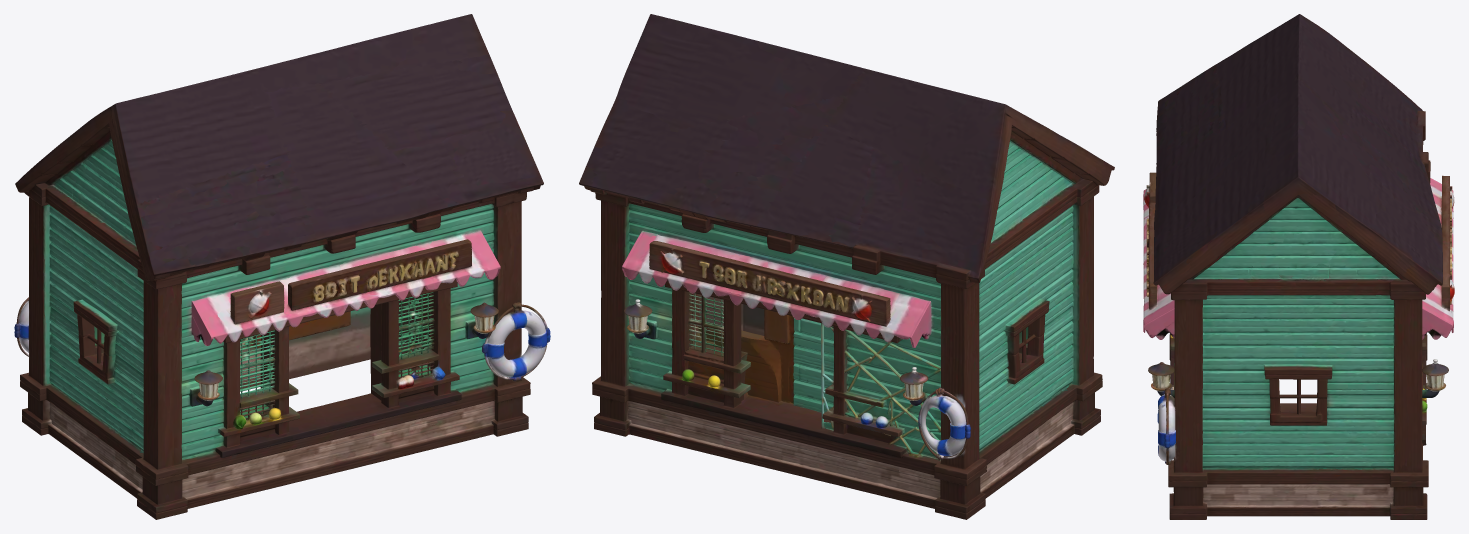
File: bait_shop-c737afcb.glb
3 views of the same model, side by side, from view 1: azimuth 30°, elevation 25°; view 2: azimuth 150°, elevation 25°; view 3: azimuth 270°, elevation 25° (orthographic). The views are drawn at different scales.
Visible parts, largest first — view 1: tripo_node_c268b4cd-c772-40e5-934d-f7b6b92aabde; view 2: tripo_node_c268b4cd-c772-40e5-934d-f7b6b92aabde; view 3: tripo_node_c268b4cd-c772-40e5-934d-f7b6b92aabde.
Boxes of the visible parts, x1,y1,x2,y2 form: tripo_node_c268b4cd-c772-40e5-934d-f7b6b92aabde: [14, 14, 550, 519]; tripo_node_c268b4cd-c772-40e5-934d-f7b6b92aabde: [579, 14, 1114, 519]; tripo_node_c268b4cd-c772-40e5-934d-f7b6b92aabde: [1143, 14, 1454, 519].
Bounding box in the file's own units: 0.9799 × 0.848 × 0.6866.
Materials: 1 (1 with a texture image).
